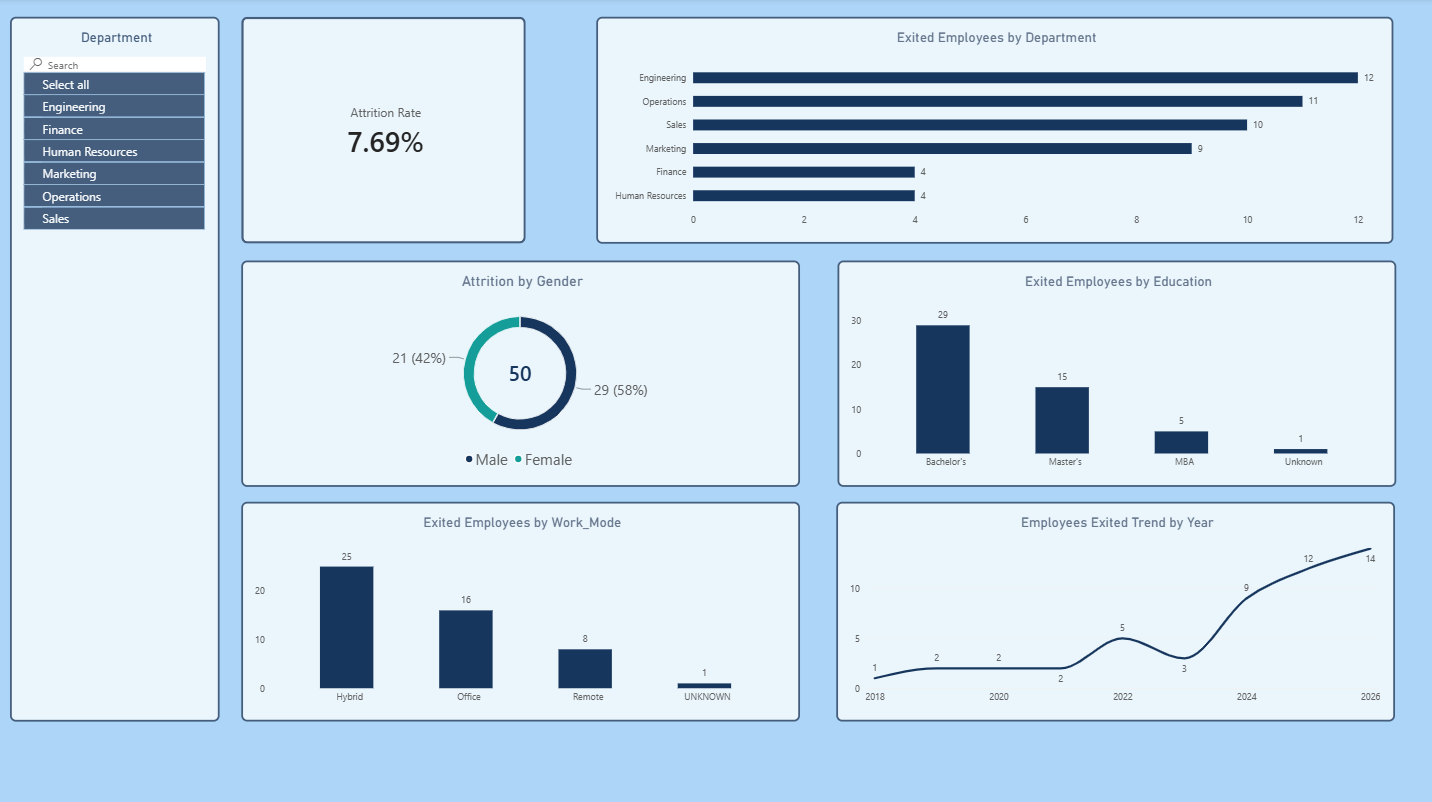

What the dashboard file says about the page in this screenshot:
{"tool":"powerbi","page":{"name":"Attrition Analysis.","canvas":[1920,1080],"ordinal":1},"visuals":[{"type":"cardVisual","fields":{"Data":["Employees.Attrition Rate"]},"box":[321.7,25,380,303.3],"z":0},{"type":"clusteredBarChart","fields":{"Category":["Departments.Department"],"Y":["Employees.Exited Employees"]},"box":[796.7,25,1065,303.3],"z":1000},{"type":"donutChart","title":"Attrition by Gender","fields":{"Category":["Employees.Gender"],"Y":["Employees.Exited Employees"]},"box":[322,349.8,746,302],"z":2000},{"type":"clusteredColumnChart","fields":{"Category":["Employees.Education"],"Y":["Employees.Exited Employees"]},"box":[1118.3,350,746,302],"z":3000},{"type":"clusteredColumnChart","fields":{"Category":["Locations.Work_Mode"],"Y":["Employees.Exited Employees"]},"box":[321.7,673.3,746,293.3],"z":4000},{"type":"lineChart","title":"Employees Exited  Trend by Year","fields":{"Category":["Date.Year"],"Y":["Employees.Employees Exited"]},"box":[1116.7,673.3,746,293.3],"z":5000},{"type":"listSlicer","fields":{"Values":["Departments.Department"]},"box":[13.3,25,280,941.7],"z":6000}]}

Visuals, with their boxes in screenshot pixels (x1, y1, x2, y2), scaled from the page's 1920x1080 canvas onto the 1432x802 screenshot:
cardVisual - Employees.Attrition Rate: 240/19/523/244
clusteredBarChart - Departments.Department x Employees.Exited Employees: 594/19/1389/244
"Attrition by Gender" donutChart: 240/260/797/484
clusteredColumnChart - Employees.Education x Employees.Exited Employees: 834/260/1390/484
clusteredColumnChart - Locations.Work_Mode x Employees.Exited Employees: 240/500/796/718
"Employees Exited  Trend by Year" lineChart: 833/500/1389/718
listSlicer - Departments.Department: 10/19/219/718
